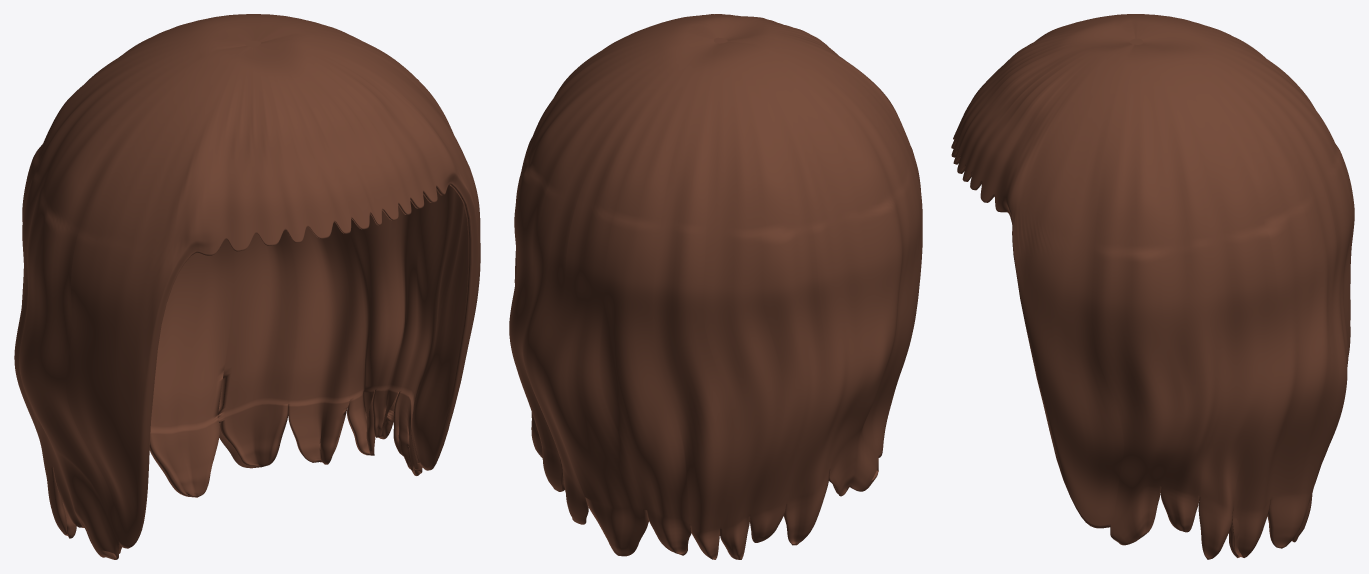
The model's file is long-cowboy.glb.
The picture shows the model from 3 angles, left to right: view 1: azimuth 30°, elevation 25°; view 2: azimuth 150°, elevation 25°; view 3: azimuth 270°, elevation 25°; orthographic projection. The views are drawn at different scales.
Visible parts, largest first — view 1: Hair / rounded long fringe; view 2: Hair / rounded long fringe; view 3: Hair / rounded long fringe.
Boxes of the visible parts, box(x1,y1,x2,y2) form: Hair / rounded long fringe: box(14, 14, 480, 559); Hair / rounded long fringe: box(509, 14, 922, 559); Hair / rounded long fringe: box(951, 14, 1354, 559).
Size of the model in its own units: 0.8536 by 1.05 by 0.7801.
